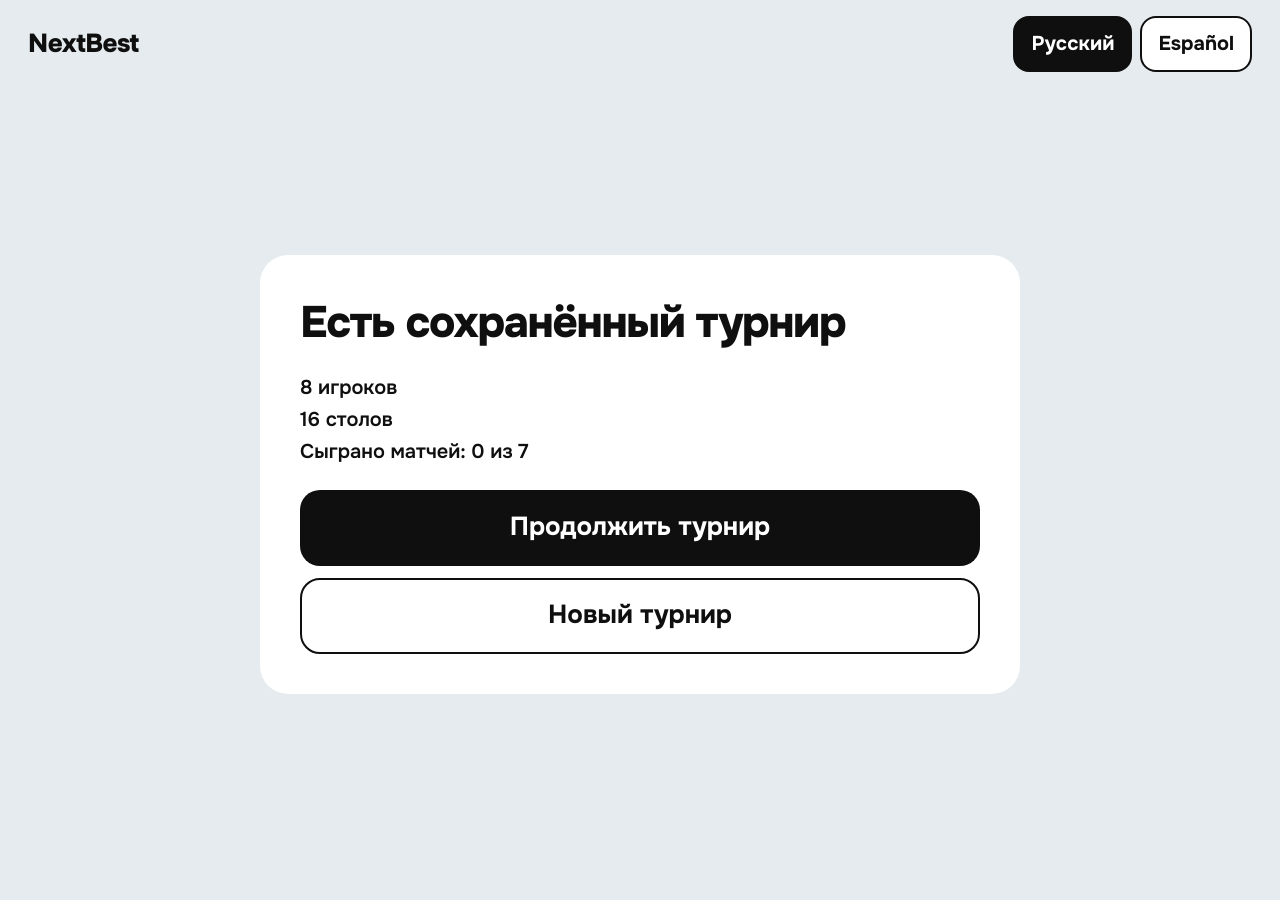
Test: tables grid › with enough tables nobody waits, and new matches start on the lowest free table
Click the button "Продолжить турнир" at coordinates (640, 528), box 300,490 -> 980,566
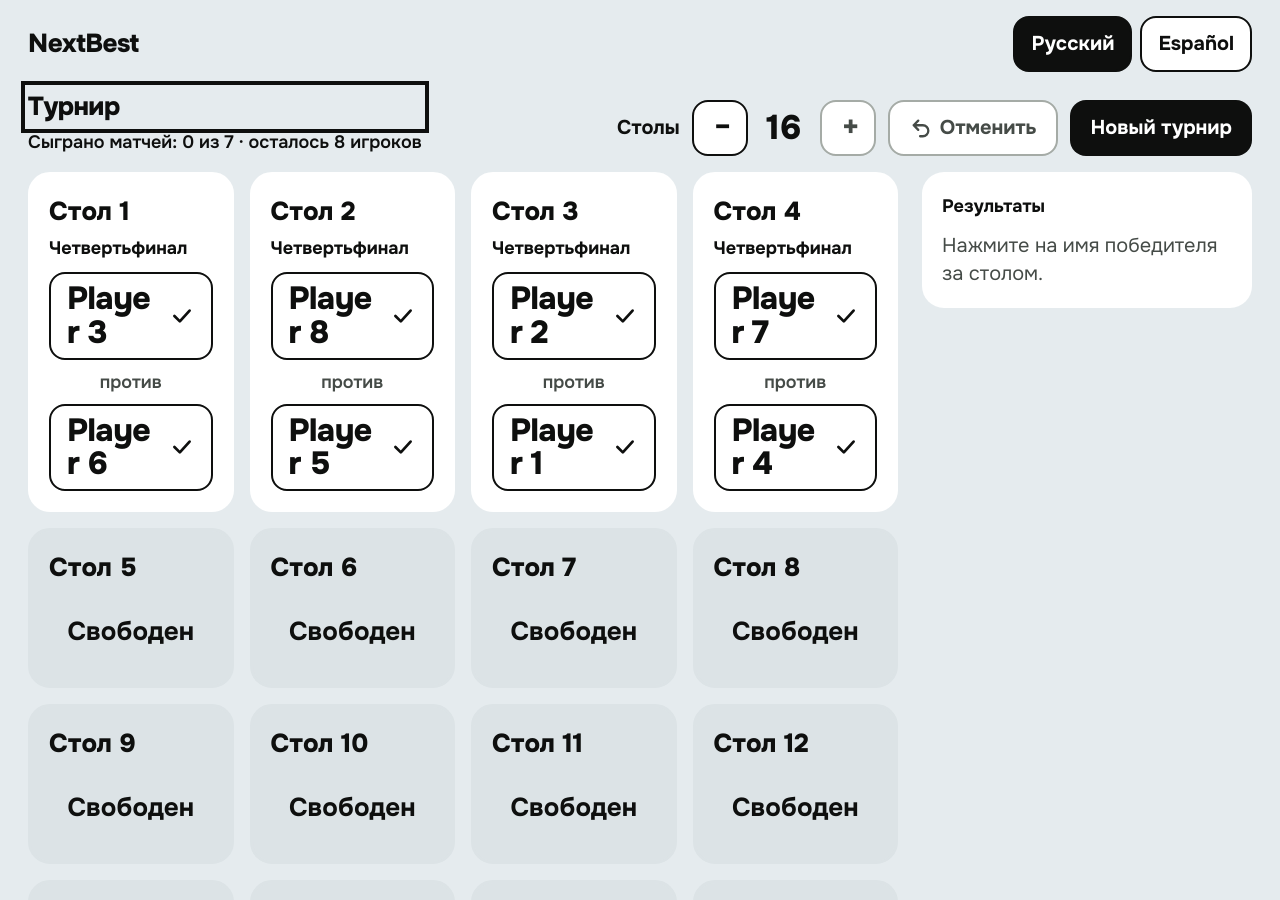
Check: the text "Свободен" below "Стол 7" is shown, box 510,615 -> 637,648
Click the button "Player 3" at coordinates (131, 316), box 49,272 -> 212,360
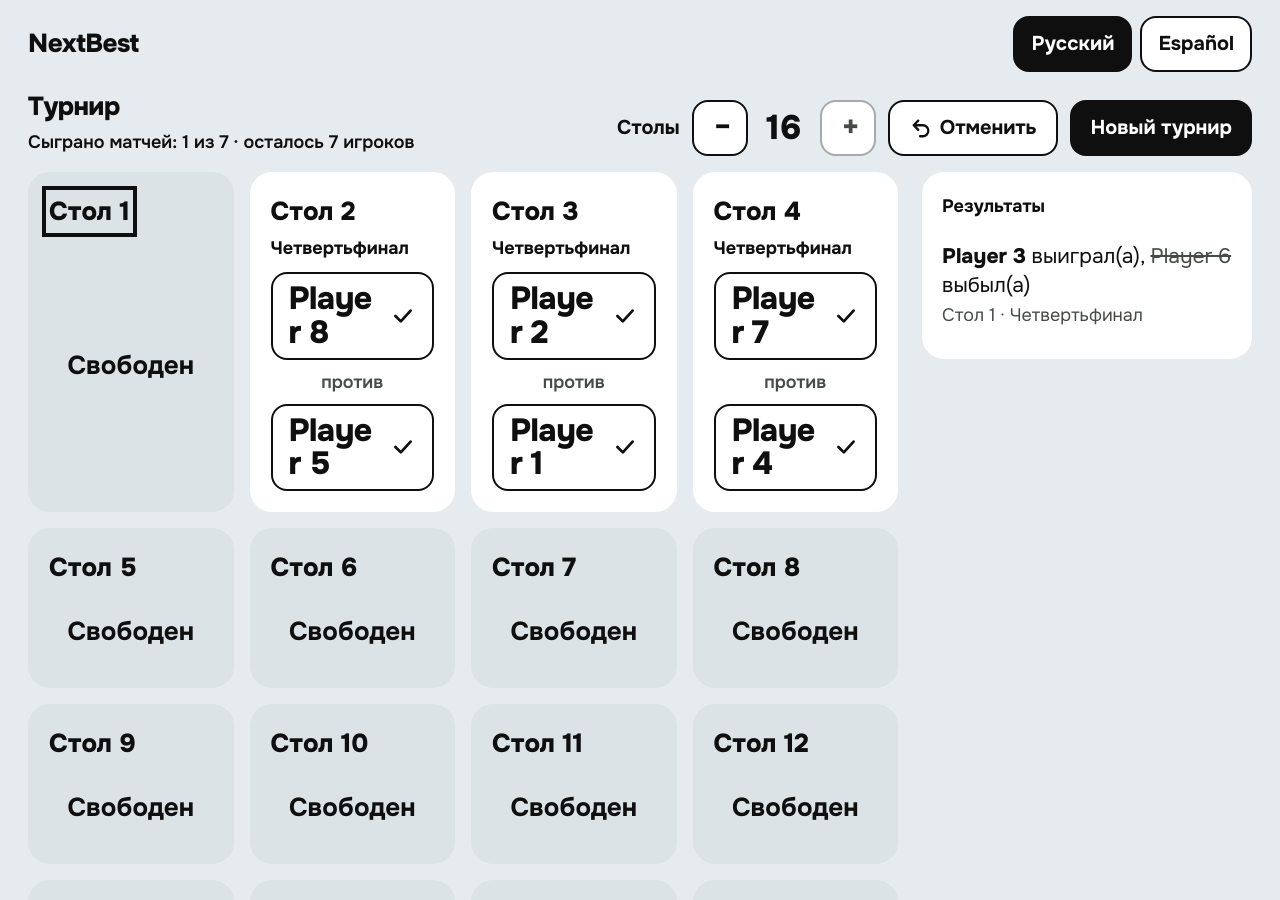
Click the button "Player 8" at coordinates (352, 316), box 270,272 -> 434,360
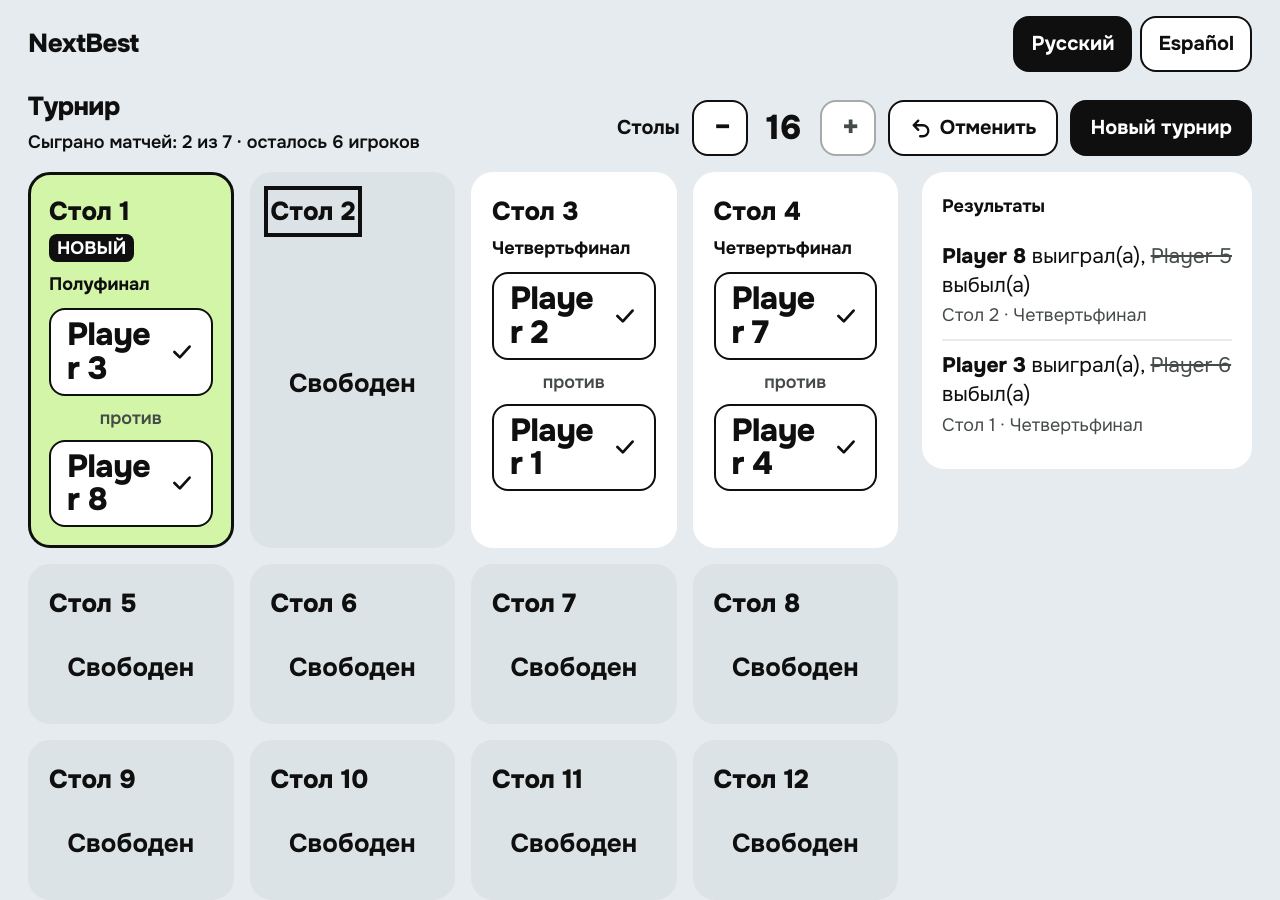
Check: the text "Свободен" below "Стол 7" is shown, box 510,651 -> 637,684
Check: the 1st text "Свободен" is shown, box 289,367 -> 416,400
Check: the text "Полуфинал" is shown, box 49,270 -> 150,298
